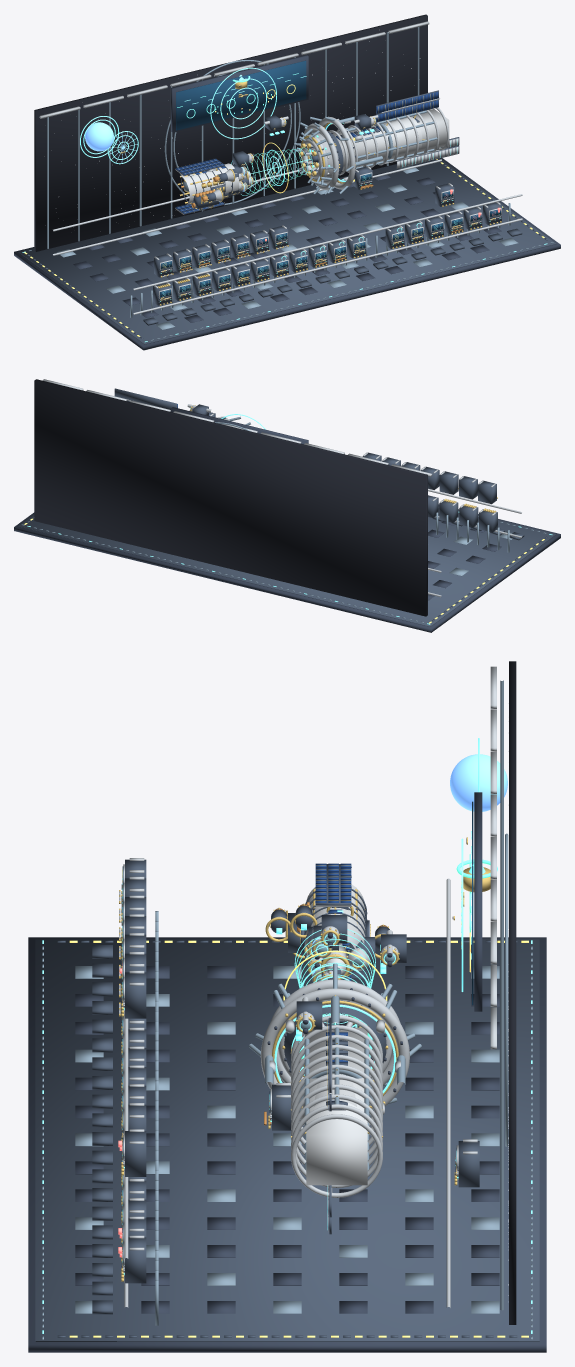
File: Level85_Complete_ArtKit_Showcase.glb
The picture shows the model from 3 angles, top to bottom: view 1: azimuth 30°, elevation 25°; view 2: azimuth 150°, elevation 25°; view 3: azimuth 270°, elevation 25°; orthographic projection. The views are drawn at different scales.
Parts seen in each view (by area): view 1: L85_OrbitalDockingArenaBase, L85_PanoramicEarthAndStarfiel_Part_0000, L85_HolographicRendezvousSCAD_Part_0001, L85_StationOrbitalTrussSpine, L85_PanoramicEarthAndStarfiel_Part_0001, L85_PanoramicEarthAndStarfiel_Part_0026, L85_HolographicRendezvousSCAD_Part_0000, L85_AutonomousServiceSpacecra_Part_0000, L85_EarthOrbitalReferenceHolo_Part_0000, L85_RelativeOrbitTrajectoryHo_Part_0000, L85_StationServiceAirlockModu_Part_0000, L85_StationCaptureStructuralF_Part_0000 (+4 smaller); view 2: L85_PanoramicEarthAndStarfiel_Part_0000, L85_OrbitalDockingArenaBase, L85_PanoramicEarthAndStarfiel_Part_0026, L85_HolographicRendezvousSCAD_Part_0000, L85_StationSolarWingModule_Part_0000, L85_Protected5VControlSupply, L85_DockingSafetyPLC, L85_ThrusterValveDriverRack, L85_CriticalClosingRateFeedba_Part_0000, L85_PrecisionThrusterCalibrat_Part_0000, L85_ThrusterFlowAndPressureMo_Part_0000; view 3: L85_OrbitalDockingArenaBase, L85_StationOrbitalTrussSpine, L85_PanoramicEarthAndStarfiel_Part_0000, L85_StationCaptureStructuralF_Part_0000, L85_PanoramicEarthAndStarfiel_Part_0026, L85_PanoramicEarthAndStarfiel_Part_0001, L85_EarthOrbitalReferenceHolo_Part_0000, L85_HolographicRendezvousSCAD_Part_0000, L85_DockingOuterGuideRing_Part_0000, L85_StationCaptureStructuralF_Part_0005, L85_PanoramicEarthAndStarfiel_Part_0002, L85_PrecisionFlightEventDataR_Part_0000 (+6 smaller).
Boxes of the visible parts, x1,y1,x2,y2 form: L85_OrbitalDockingArenaBase: (14,158,560,350); L85_PanoramicEarthAndStarfiel_Part_0000: (34,14,427,251); L85_HolographicRendezvousSCAD_Part_0001: (176,60,306,130); L85_StationOrbitalTrussSpine: (328,107,449,175); L85_PanoramicEarthAndStarfiel_Part_0001: (47,32,388,248); L85_PanoramicEarthAndStarfiel_Part_0026: (39,21,429,118); L85_HolographicRendezvousSCAD_Part_0000: (171,55,308,132); L85_AutonomousServiceSpacecra_Part_0000: (180,163,239,204); L85_EarthOrbitalReferenceHolo_Part_0000: (85,122,113,151); L85_RelativeOrbitTrajectoryHo_Part_0000: (210,67,276,139); L85_StationServiceAirlockModu_Part_0000: (384,117,422,152); L85_StationCaptureStructuralF_Part_0000: (319,116,355,189); L85_PanoramicEarthAndStarfiel_Part_0000: (34,379,427,616); L85_OrbitalDockingArenaBase: (14,489,560,632); L85_PanoramicEarthAndStarfiel_Part_0026: (42,379,432,476); L85_HolographicRendezvousSCAD_Part_0000: (171,407,308,444); L85_StationSolarWingModule_Part_0000: (114,388,177,411); L85_Protected5VControlSupply: (439,471,458,494); L85_DockingSafetyPLC: (459,476,477,499); L85_ThrusterValveDriverRack: (479,508,497,532); L85_CriticalClosingRateFeedba_Part_0000: (478,480,496,504); L85_PrecisionThrusterCalibrat_Part_0000: (439,501,458,522); L85_ThrusterFlowAndPressureMo_Part_0000: (459,506,478,527); L85_OrbitalDockingArenaBase: (28,878,546,1352); L85_StationOrbitalTrussSpine: (291,1015,382,1197); L85_PanoramicEarthAndStarfiel_Part_0000: (509,661,516,1324); L85_StationCaptureStructuralF_Part_0000: (260,988,409,1111); L85_PanoramicEarthAndStarfiel_Part_0026: (490,666,496,1049); L85_PanoramicEarthAndStarfiel_Part_0001: (500,680,508,1146); L85_EarthOrbitalReferenceHolo_Part_0000: (450,754,507,811); L85_HolographicRendezvousSCAD_Part_0000: (474,792,482,1011); L85_DockingOuterGuideRing_Part_0000: (270,979,400,1091); L85_StationCaptureStructuralF_Part_0005: (249,968,421,1104); L85_PanoramicEarthAndStarfiel_Part_0002: (500,1042,503,1310); L85_PrecisionFlightEventDataR_Part_0000: (125,972,146,1018).
Size of what is drawn, in the model's own units: 29.2 by 10.13 by 15.7.
